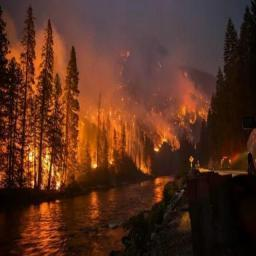Low smoke: (0, 2, 247, 143)
Medium fire: (1, 26, 192, 203)
